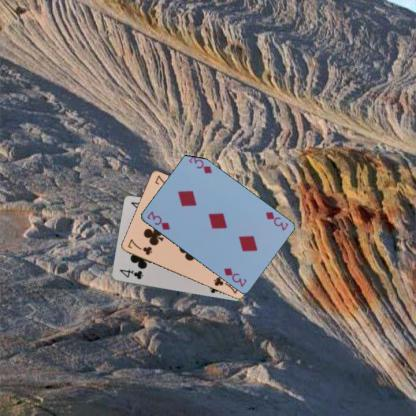3d: (262, 209, 290, 232), (144, 208, 171, 231)
4c: (117, 267, 144, 281)
7c: (125, 236, 153, 256)
